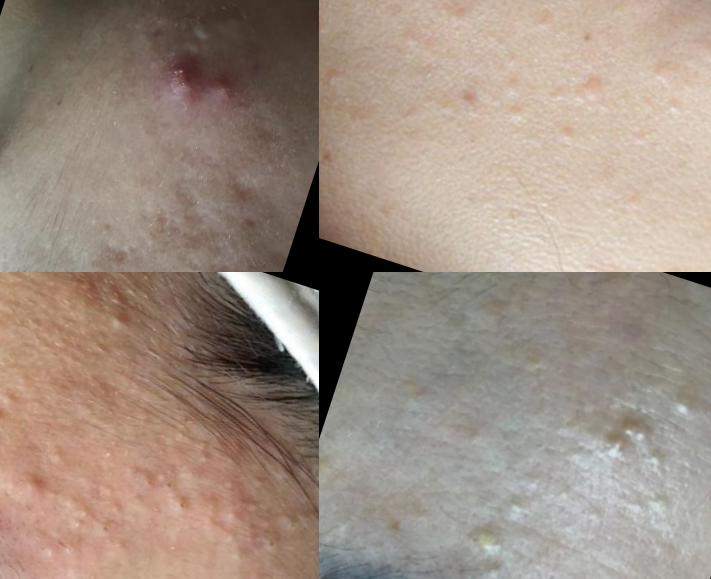blackhead: (249, 527, 302, 579), (276, 508, 320, 538), (165, 491, 200, 524)
cystic: (143, 42, 223, 132), (192, 57, 252, 119)
flat_wart: (567, 63, 620, 120), (616, 1, 686, 32), (649, 50, 698, 88), (689, 14, 711, 67)
whitehead: (155, 420, 232, 477), (29, 521, 93, 579), (465, 512, 525, 563), (586, 424, 641, 475), (609, 410, 665, 458), (58, 491, 109, 540), (664, 373, 708, 423), (512, 342, 558, 386), (495, 481, 542, 524), (457, 416, 499, 461), (92, 434, 140, 473), (45, 434, 88, 473), (579, 493, 620, 532), (474, 554, 523, 579), (639, 439, 673, 475), (533, 9, 571, 41), (100, 306, 136, 337), (320, 1, 342, 51), (320, 62, 352, 95), (666, 87, 696, 122), (554, 123, 589, 151), (136, 467, 168, 496), (501, 104, 535, 128), (640, 493, 668, 517), (497, 76, 528, 97), (216, 498, 242, 523), (243, 476, 269, 500), (1, 452, 18, 486), (223, 526, 243, 550), (1, 404, 11, 435), (227, 572, 266, 579)
